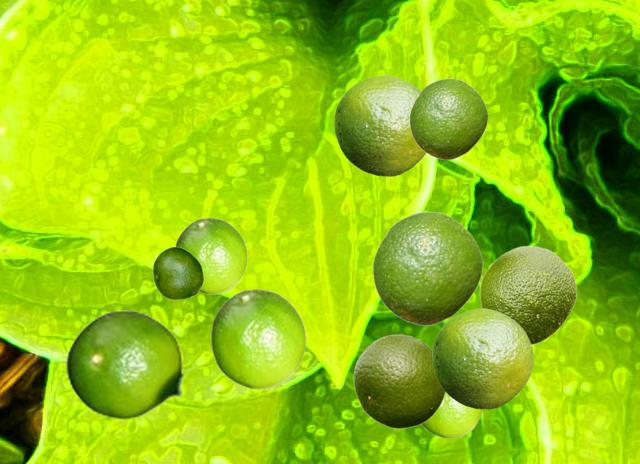calamansi: (65, 310, 196, 419), (372, 211, 482, 325), (432, 308, 532, 408), (479, 245, 576, 345), (210, 288, 306, 388), (334, 75, 425, 175), (353, 333, 445, 428), (409, 78, 487, 159), (174, 217, 247, 293), (420, 394, 483, 437), (152, 246, 203, 299)
